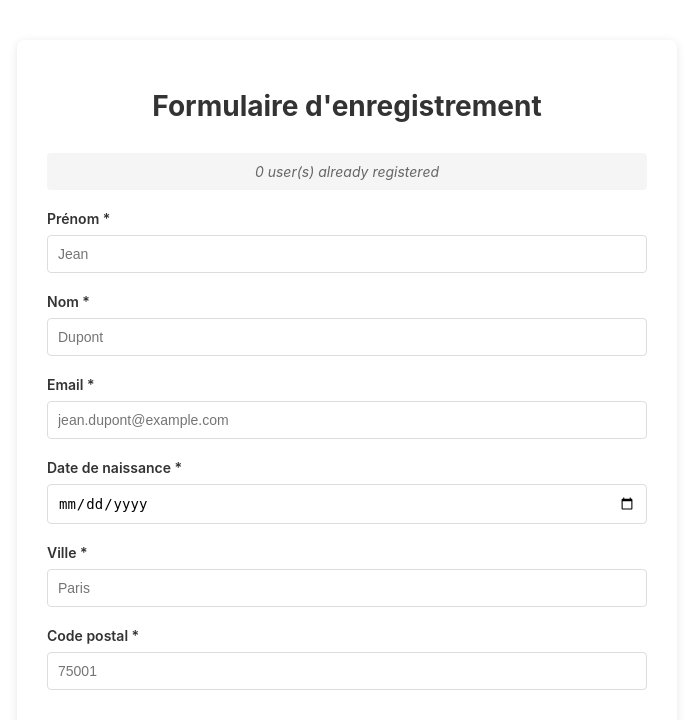
it: RegisterForm Integration Tests › should show error for name with numbers
In the field with test id "input-firstName": (347,254) x1=47 y1=235 x2=647 y2=273, type "Jean123"
(page scrolled)
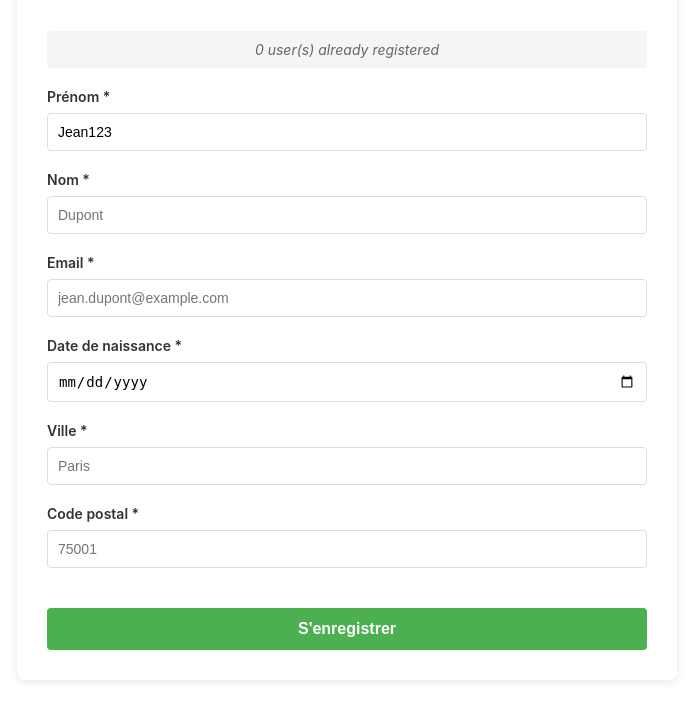
Click the button "S'enregistrer": (347,629) x1=47 y1=608 x2=647 y2=650
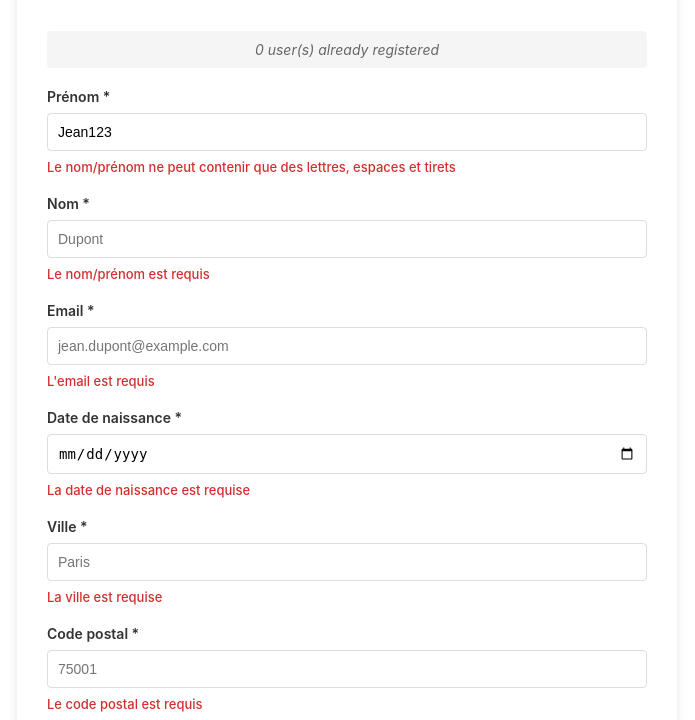
Now the text with test id "error-firstName" is shown, box x1=47 y1=159 x2=456 y2=175
